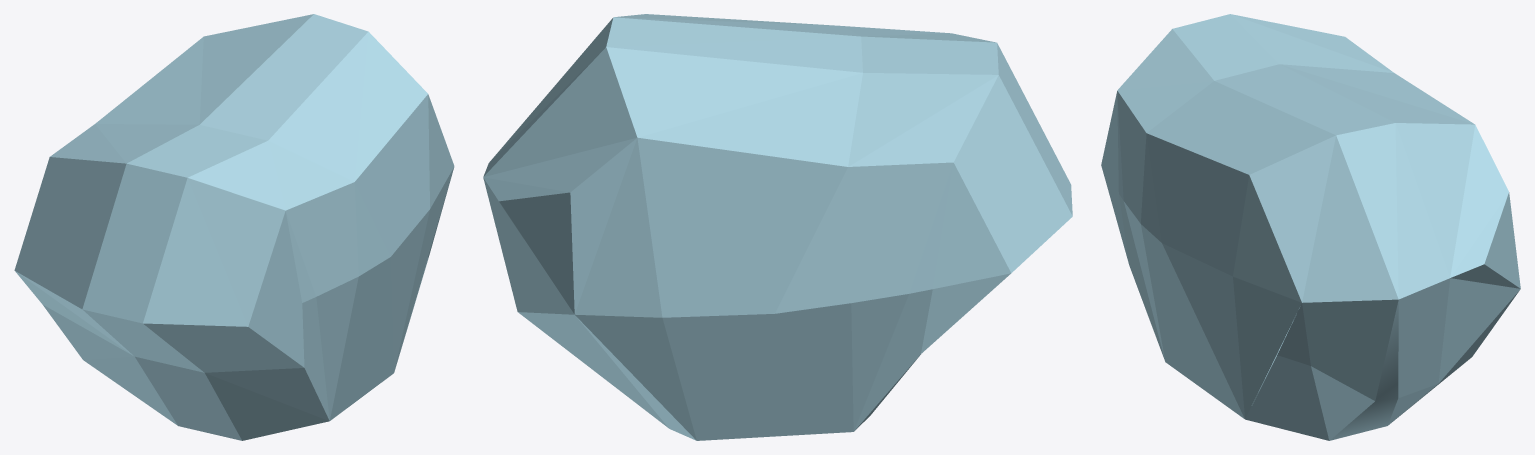
The model's file is cloud3.glb.
3 renders of one model, left to right at view 1: azimuth 30°, elevation 25°; view 2: azimuth 150°, elevation 25°; view 3: azimuth 270°, elevation 25°, orthographic. The views are drawn at different scales.
Visible parts, largest first — view 1: cloud3; view 2: cloud3; view 3: cloud3.
Part boxes in pixels (<box>): cloud3: <box>14,14,454,440</box>; cloud3: <box>483,14,1072,440</box>; cloud3: <box>1101,14,1520,440</box>.
Size of the model in its own units: 1.58 by 1.16 by 1.35.
